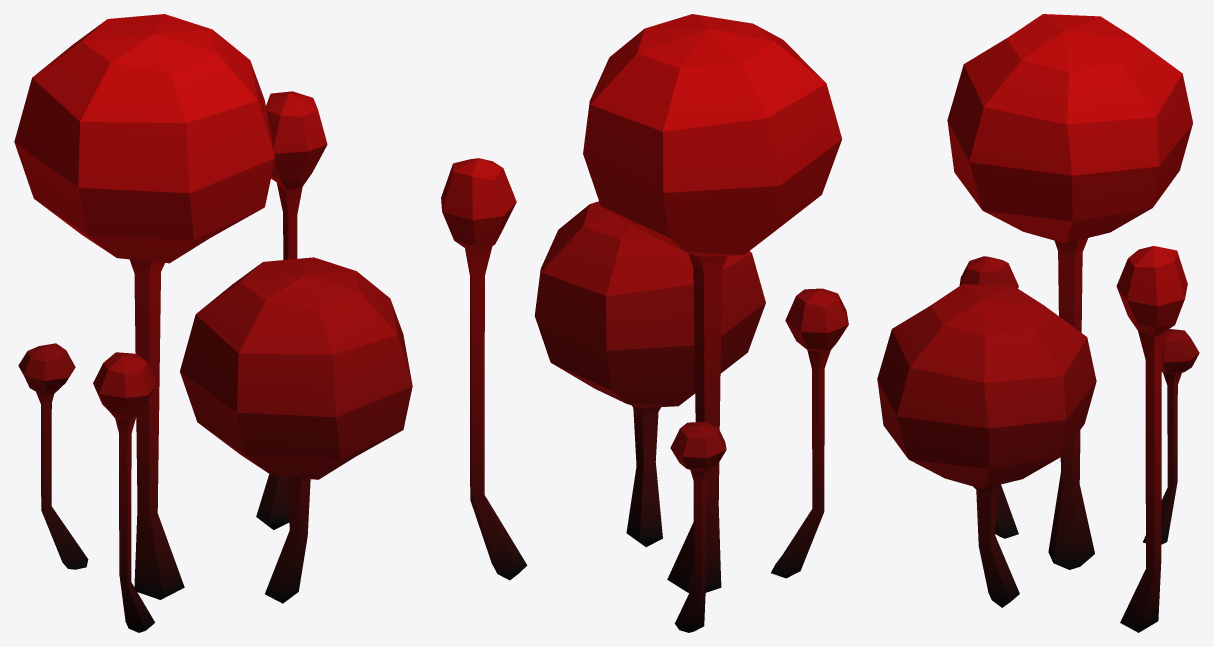
The model's file is SM_Env_Plant_Balloon_Group_01.glb.
The picture shows the model from 3 angles, left to right: view 1: azimuth 30°, elevation 25°; view 2: azimuth 150°, elevation 25°; view 3: azimuth 270°, elevation 25°; orthographic projection. The views are drawn at different scales.
Parts seen in each view (by area): view 1: SM_Env_Plant_Balloon_Group_01; view 2: SM_Env_Plant_Balloon_Group_01; view 3: SM_Env_Plant_Balloon_Group_01.
Boxes of the visible parts, x1=… form: SM_Env_Plant_Balloon_Group_01: x1=14, y1=14, x2=412, y2=632; SM_Env_Plant_Balloon_Group_01: x1=441, y1=14, x2=848, y2=632; SM_Env_Plant_Balloon_Group_01: x1=877, y1=14, x2=1199, y2=632.
Size of the model in its own units: 1.56 by 2.62 by 1.43.
